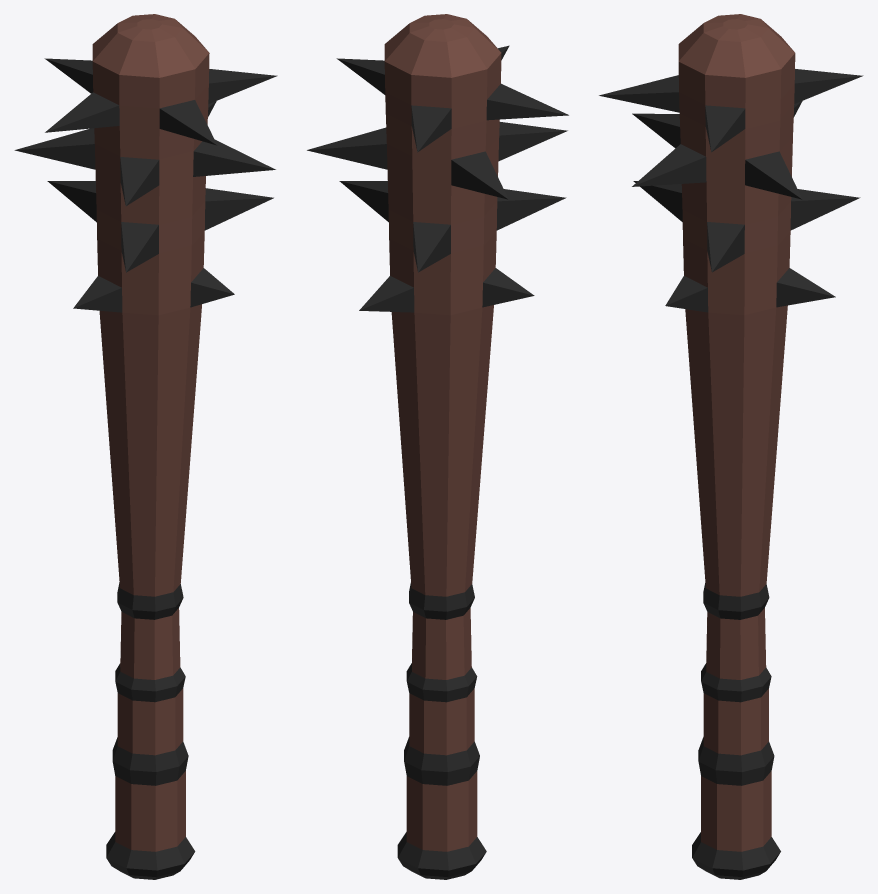
Rendered from Club.glb.
3 views of the same model, side by side, from view 1: azimuth 30°, elevation 25°; view 2: azimuth 150°, elevation 25°; view 3: azimuth 270°, elevation 25° (orthographic).
Parts seen in each view (by area): view 1: Club; view 2: Club; view 3: Club.
Boxes of the visible parts, x1=… form: Club: x1=14, y1=14, x2=277, y2=879; Club: x1=307, y1=14, x2=568, y2=879; Club: x1=599, y1=14, x2=863, y2=879.
Size of the model in its own units: 0.8207 by 2.83 by 0.8082.
